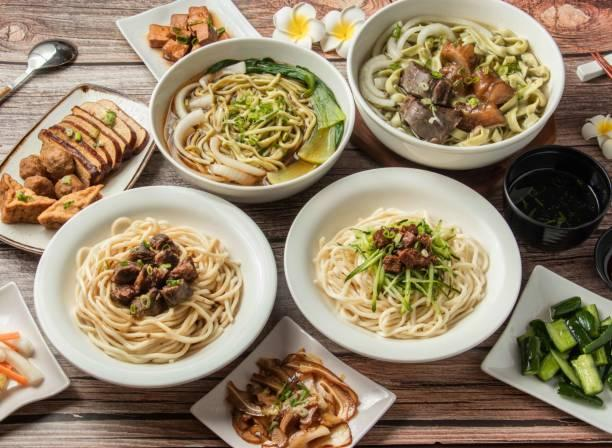Braised Crucian Carp: (34, 183, 271, 384), (288, 166, 523, 361), (347, 0, 564, 170), (149, 37, 349, 203), (189, 315, 395, 446), (480, 263, 612, 438), (2, 97, 146, 228)
